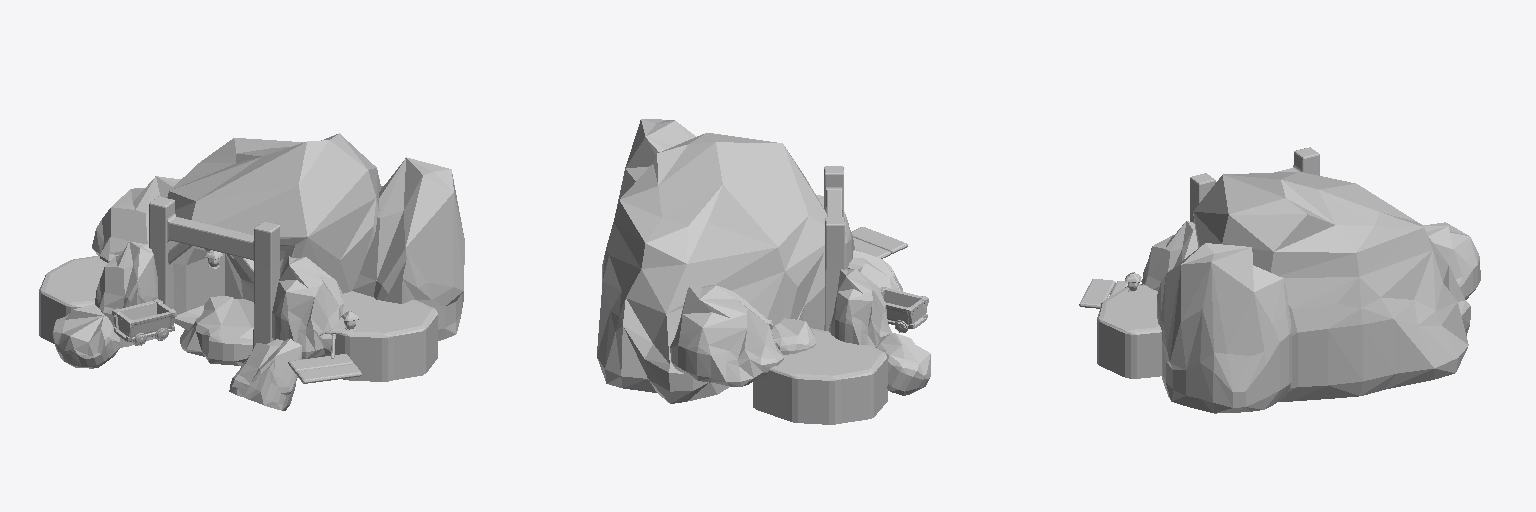
The model's file is SM_mine.obj.
The picture shows the model from 3 angles: view 1: azimuth 30°, elevation 25°; view 2: azimuth 150°, elevation 25°; view 3: azimuth 270°, elevation 25°; orthographic projection.
Parts seen in each view (by area): view 1: porte.001_mine, porte.001_bois, porte.001_wagon; view 2: porte.001_mine, porte.001_bois, porte.001_wagon; view 3: porte.001_mine, porte.001_bois.
Part boxes in pixels (x1,y1,x2,y2): porte.001_mine: (39, 133, 464, 410); porte.001_bois: (149, 196, 361, 383); porte.001_wagon: (112, 299, 176, 345); porte.001_mine: (597, 119, 930, 424); porte.001_bois: (824, 166, 907, 330); porte.001_wagon: (879, 287, 928, 332); porte.001_mine: (1097, 172, 1480, 413); porte.001_bois: (1079, 147, 1319, 308).
Bounding box in the file's own units: 7.04 × 3.82 × 6.85.